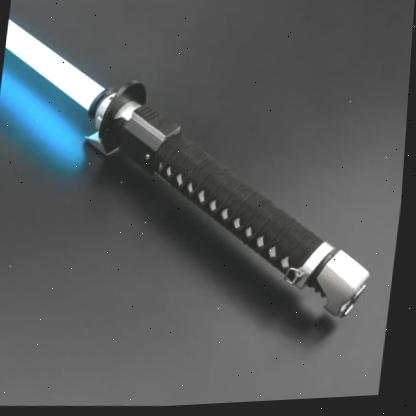lightsaber: (0, 0, 404, 357)
